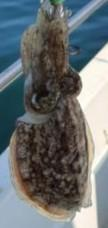Cephalopod: (9, 1, 93, 218)
